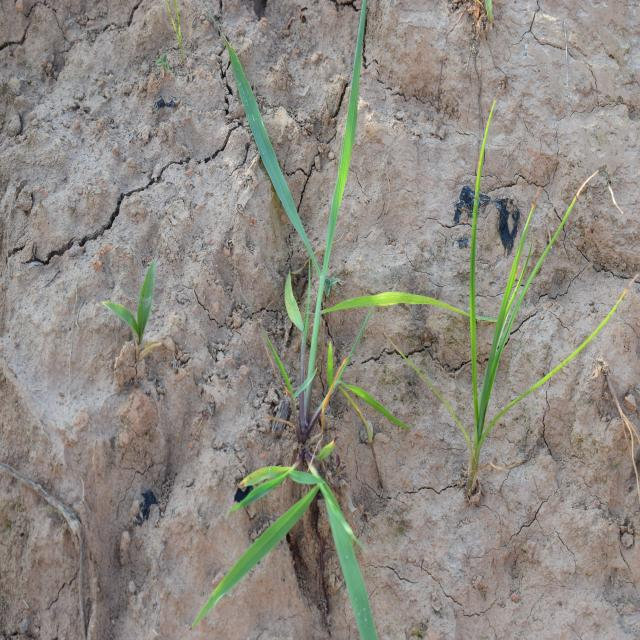green_foxtail: (224, 45, 382, 581)
